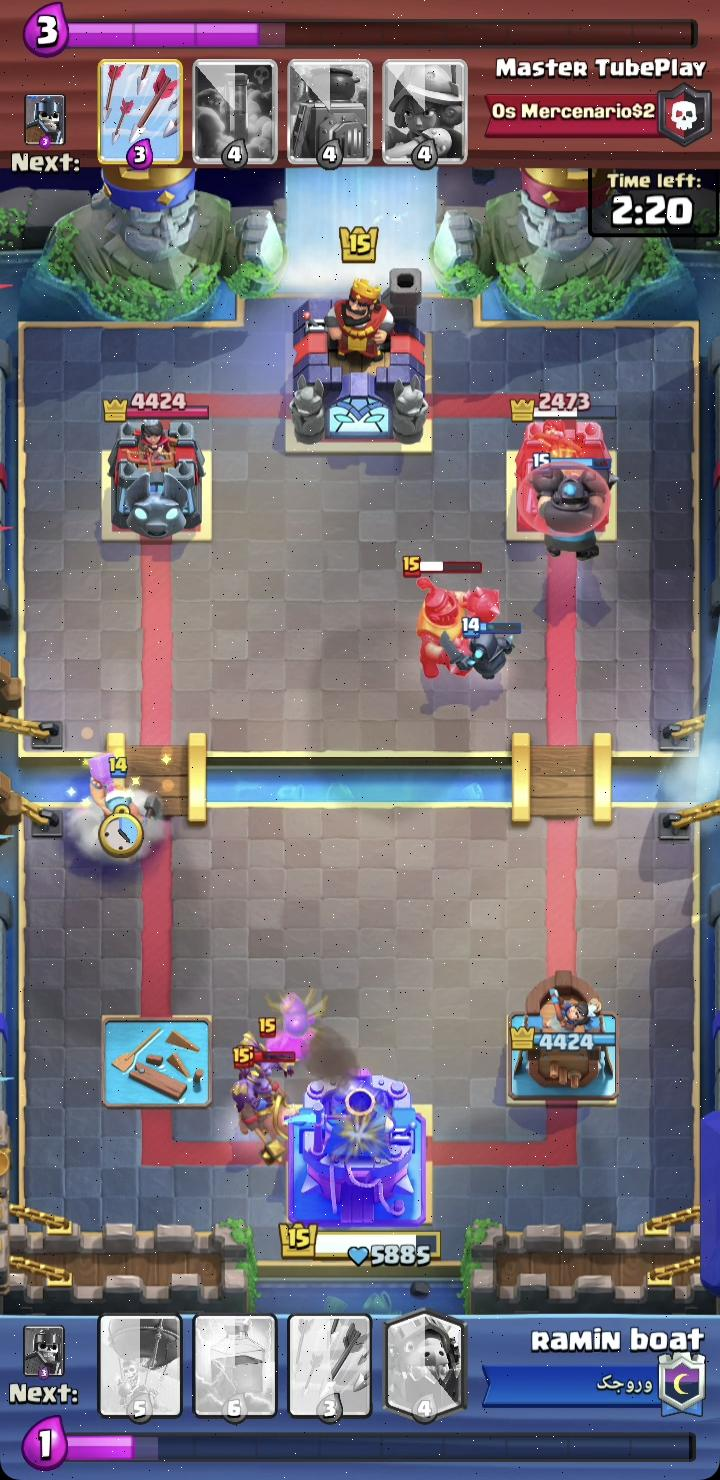EHogRider: (231, 1079, 272, 1112)
EKingTower: (290, 278, 428, 445)
EMegaKnight: (416, 578, 496, 679)
EnemyPrincessTower: (516, 418, 616, 535), (110, 419, 204, 540)
OLumberjack: (89, 752, 162, 821)
OMegaKnight: (530, 464, 609, 559)
OMiniPekka: (464, 621, 521, 679)
OwnKingTower: (287, 1070, 431, 1228)
OwnPrincessTower: (508, 971, 616, 1103)
TowerDown: (102, 1017, 209, 1109)
